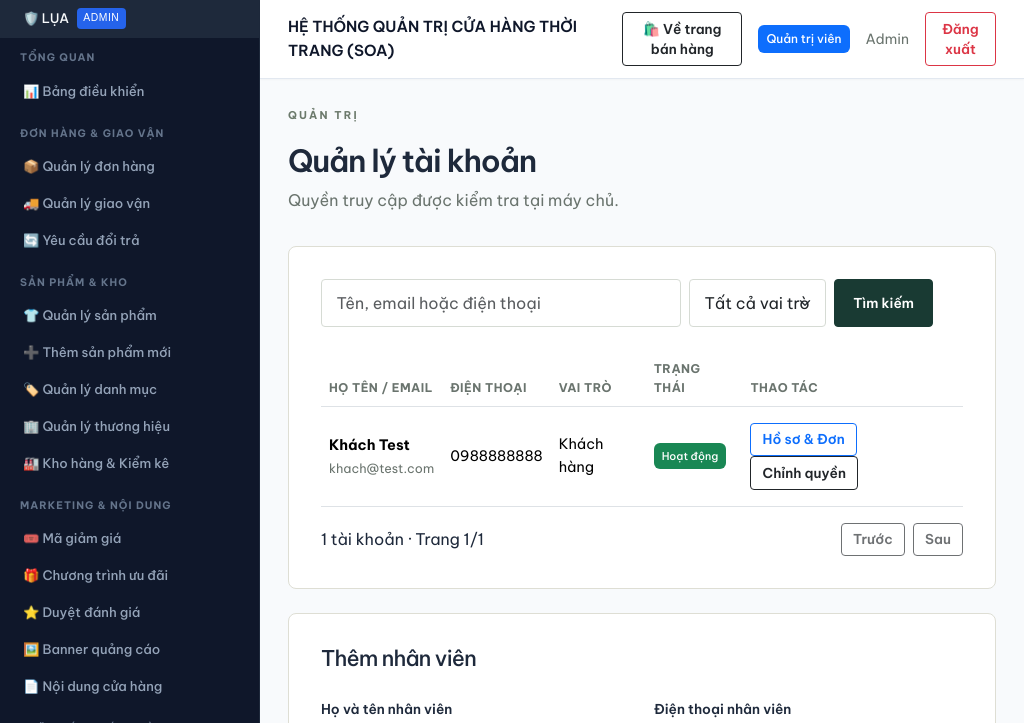
Test: quản trị viên xem hồ sơ và lịch sử đơn hàng của khách
This screenshot has width=1024, height=723.
Click the button "Hồ sơ & Đơn" at (804, 439), box [750,422,857,456]
(page scrolled)
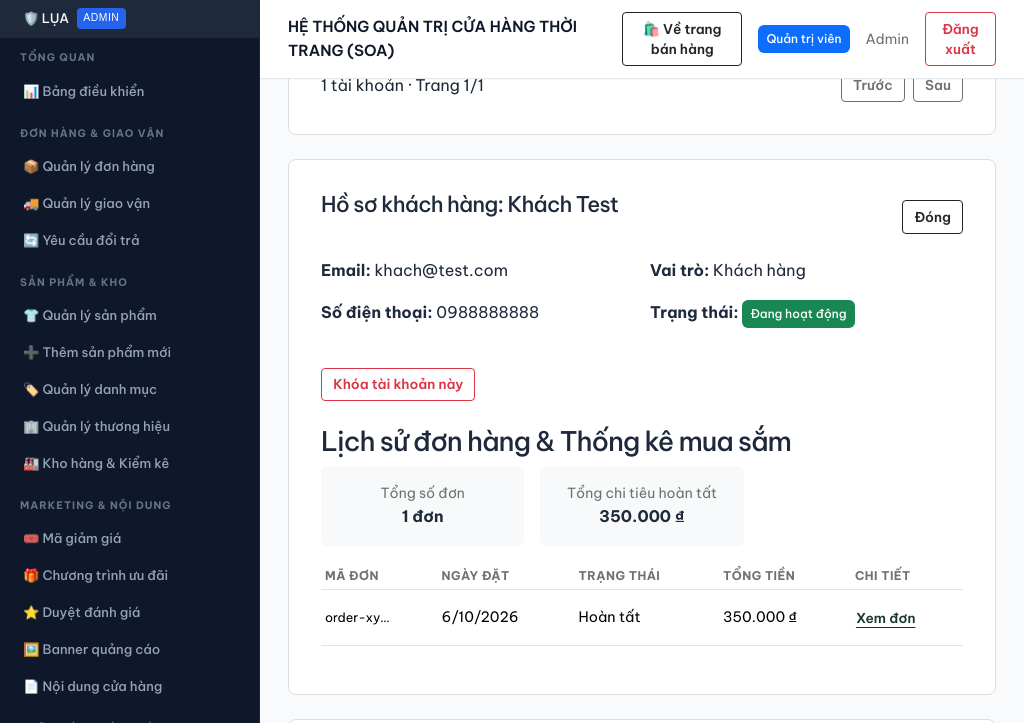
Result: the heading "Hồ sơ khách hàng: Khách Test" is shown at [321,192,618,218]
Result: the text "Tổng số đơn" is shown at [380,484,465,502]
Result: the text "1 đơn" is shown at [402,506,444,526]
